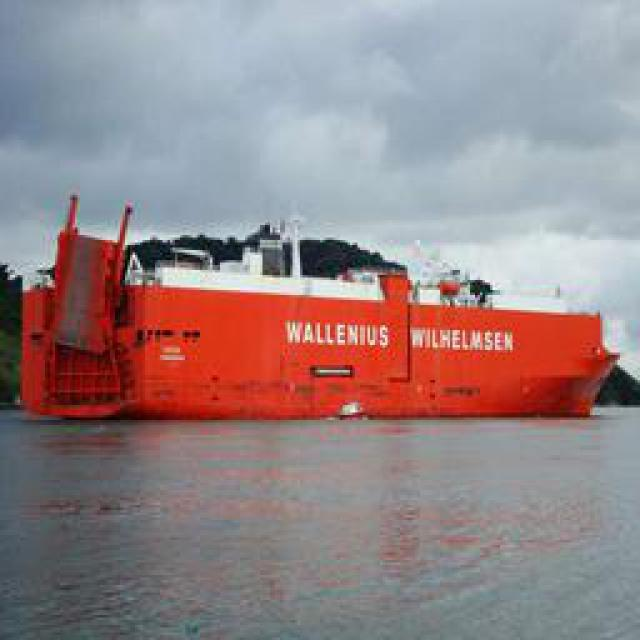Ship: (15, 201, 633, 426)
